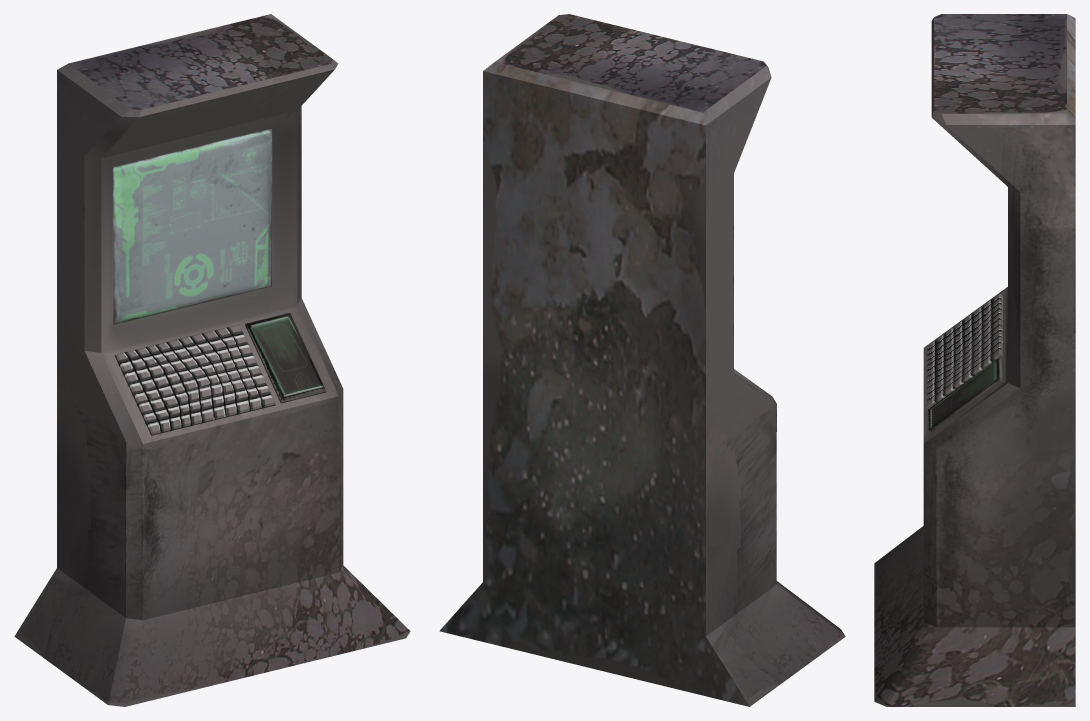
The model's file is Terminal.fbx.
3 views of the same model, side by side, from view 1: azimuth 30°, elevation 25°; view 2: azimuth 150°, elevation 25°; view 3: azimuth 270°, elevation 25° (orthographic). The views are drawn at different scales.
Visible parts, largest first — view 1: pCube1; view 2: pCube1; view 3: pCube1.
Part boxes in pixels (box(x1,y1,x2,y2)): pCube1: box(14, 14, 410, 706); pCube1: box(439, 14, 845, 706); pCube1: box(874, 14, 1075, 706).
Size of the model in its own units: 9 by 16.03 by 5.14.
Materials: 1 (1 with a texture image).
